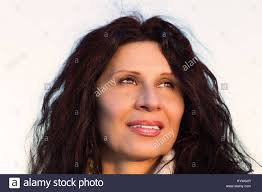white_female: (104, 47, 188, 168)
